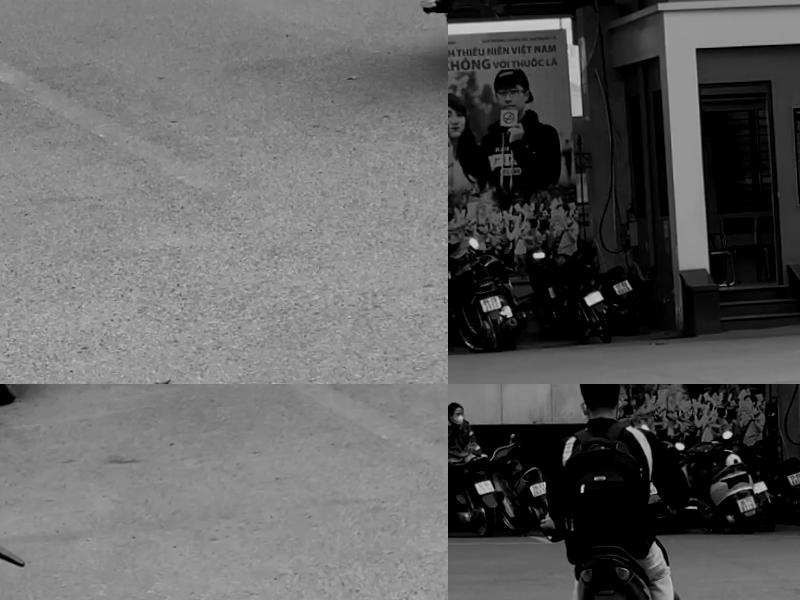license_plate: (475, 293, 501, 315), (578, 290, 603, 311), (608, 278, 633, 299), (734, 497, 756, 519), (472, 480, 496, 499), (530, 482, 547, 501), (783, 473, 800, 491)
motorcyclist: (535, 384, 692, 600)
